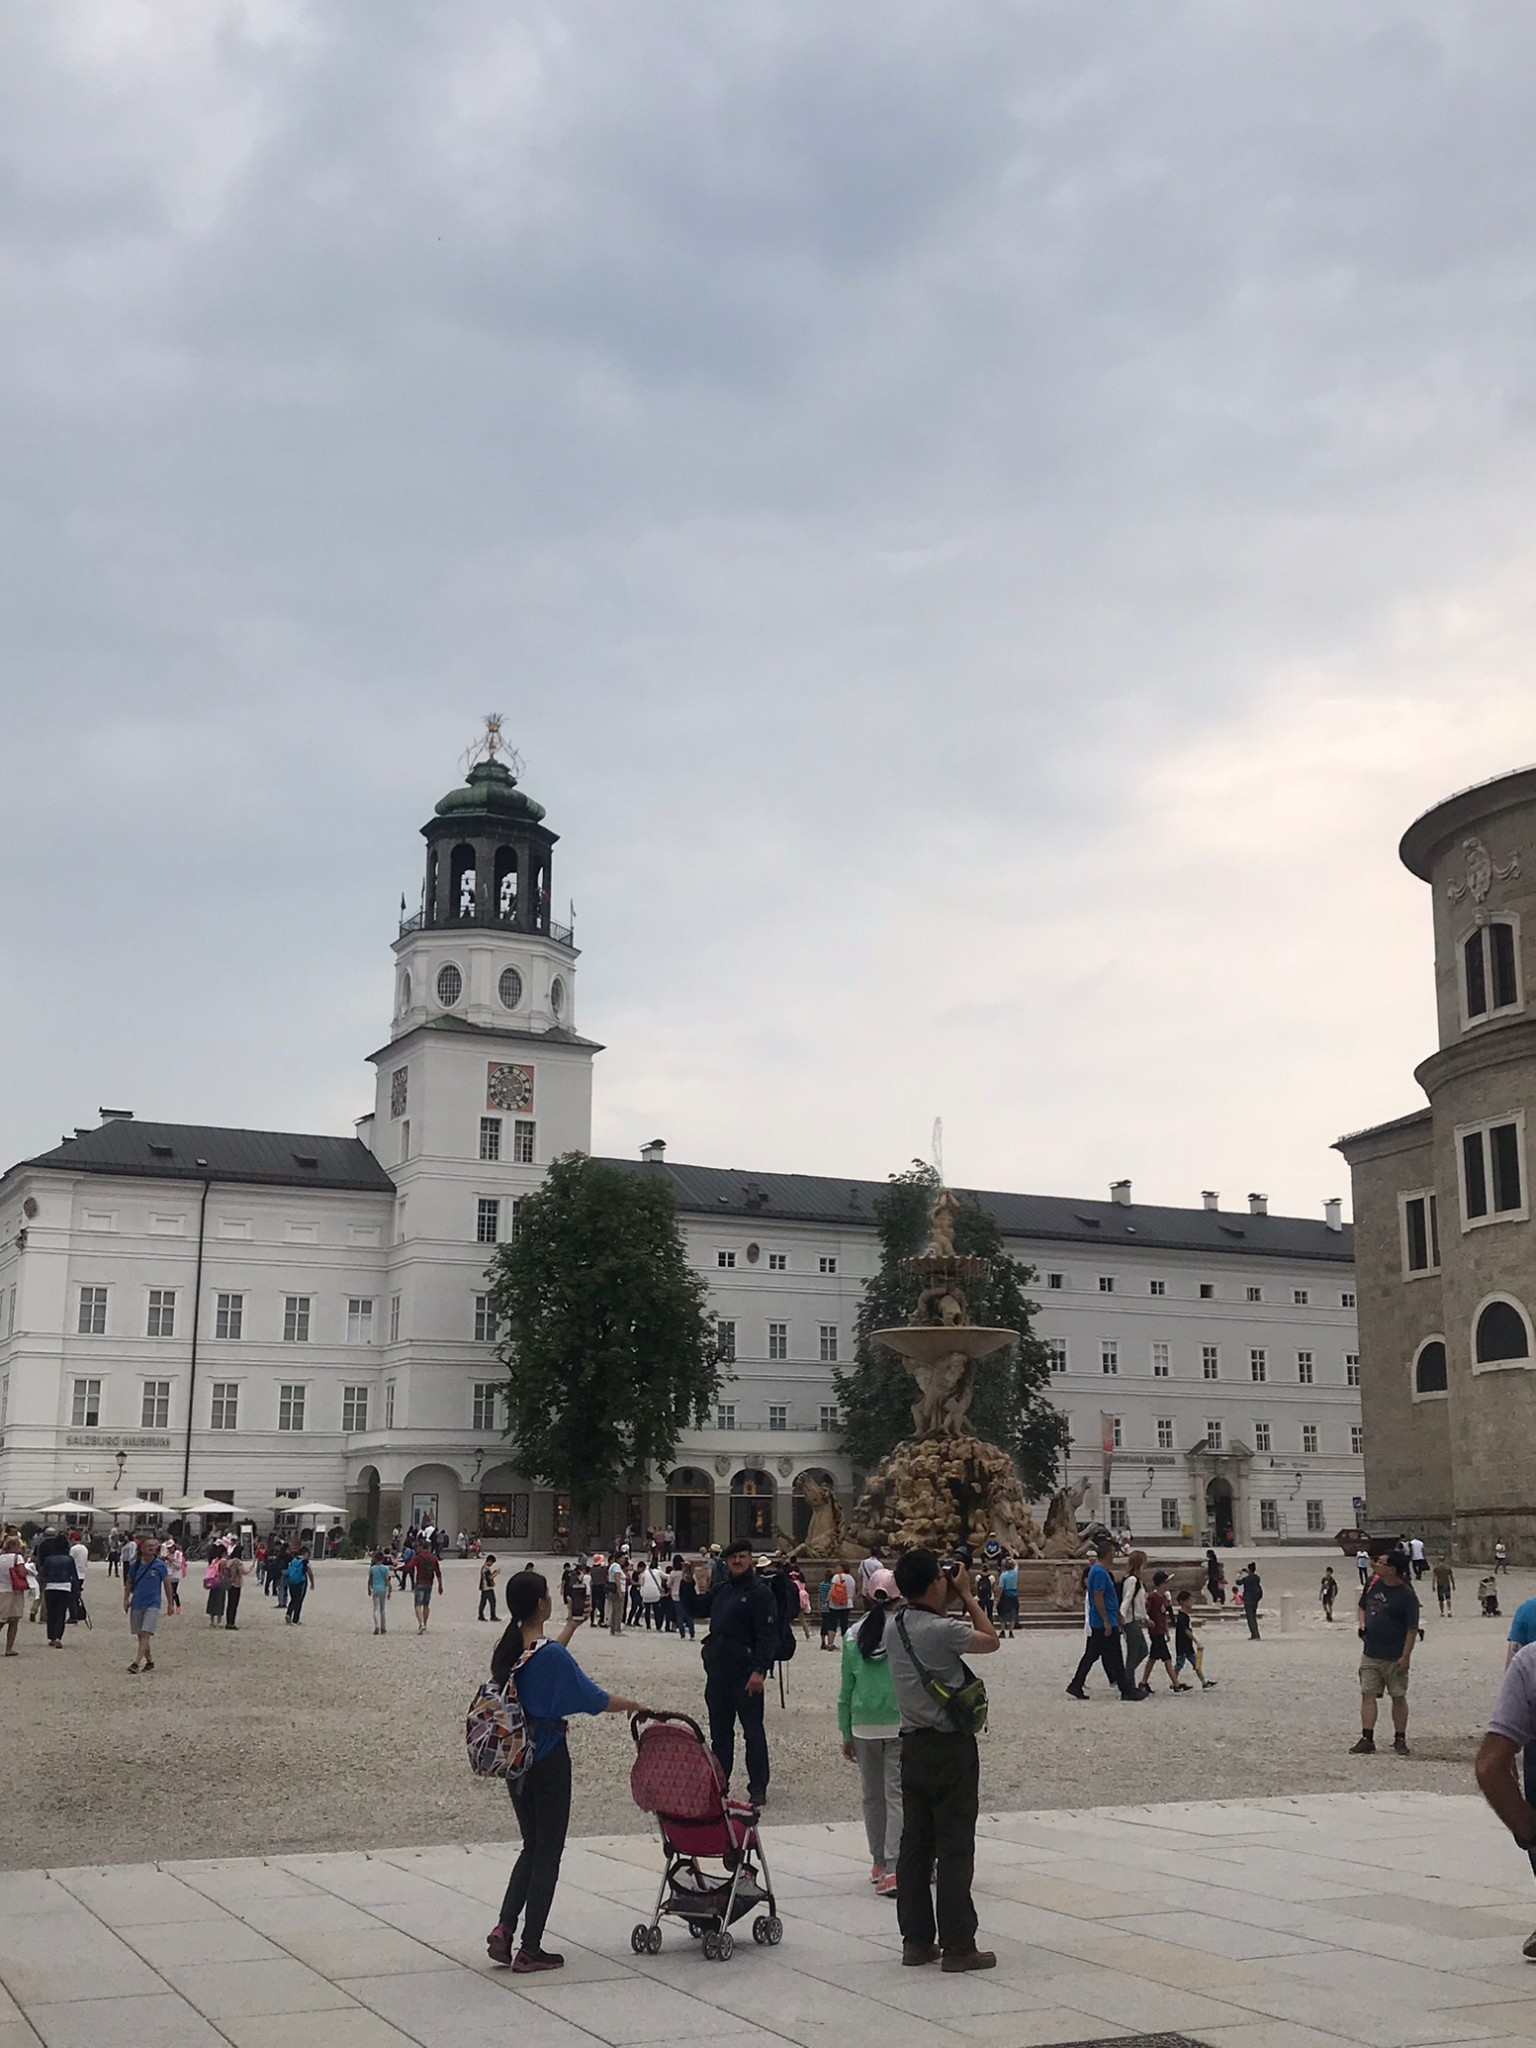people: (892, 1551, 1005, 1976), (479, 1576, 598, 1973), (698, 1541, 792, 1822), (853, 1560, 915, 1899), (1350, 1547, 1421, 1767), (1076, 1544, 1127, 1696), (121, 1538, 173, 1680), (40, 1534, 92, 1660), (1150, 1560, 1186, 1699), (5, 1518, 37, 1660), (1173, 1599, 1218, 1699), (408, 1538, 444, 1638), (1121, 1541, 1144, 1689), (1237, 1557, 1276, 1638), (279, 1541, 315, 1622), (824, 1567, 860, 1647), (363, 1551, 392, 1638), (608, 1560, 634, 1638), (1427, 1551, 1460, 1609), (1311, 1557, 1340, 1618), (482, 1541, 502, 1631), (205, 1547, 227, 1618), (227, 1547, 247, 1628), (573, 1560, 595, 1612), (650, 1557, 666, 1622)
